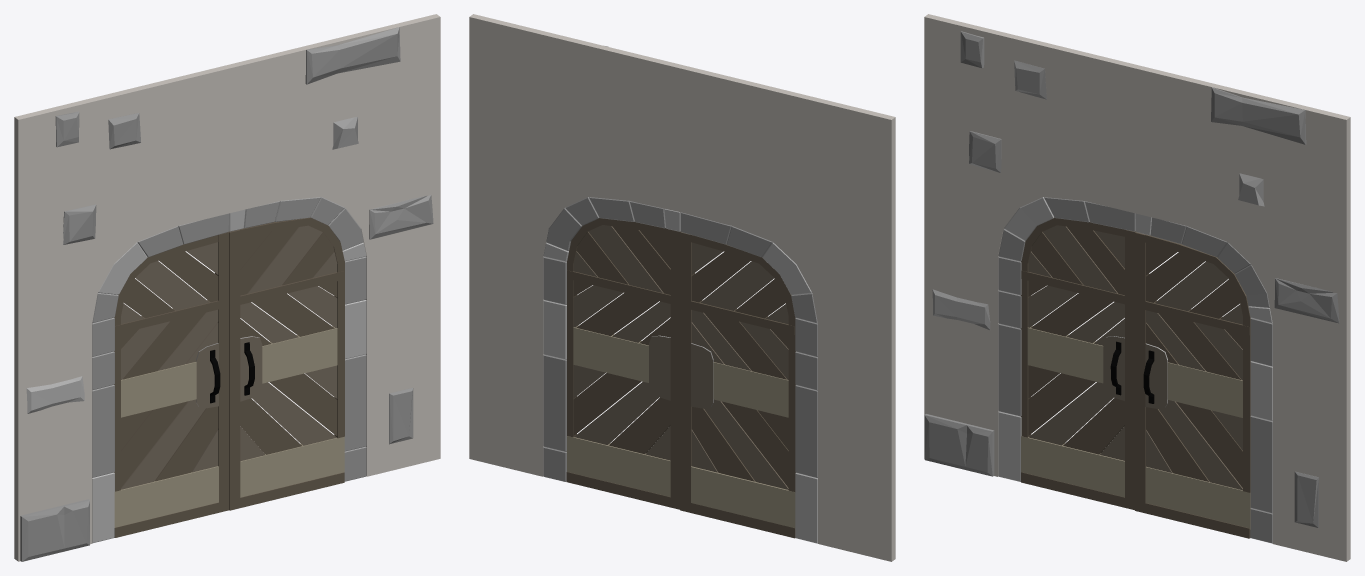
Rendered from _DOOR_02_1.fbx.
The picture shows the model from 3 angles, left to right: view 1: azimuth 30°, elevation 25°; view 2: azimuth 150°, elevation 25°; view 3: azimuth 330°, elevation 25°; orthographic projection.
Parts seen in each view (by area): view 1: DOOR_02_1; view 2: DOOR_02_1; view 3: DOOR_02_1.
Boxes of the visible parts, bbox=[...] form: DOOR_02_1: bbox=[14, 14, 440, 561]; DOOR_02_1: bbox=[469, 14, 895, 561]; DOOR_02_1: bbox=[924, 14, 1350, 561].
Bounding box in the file's own units: 300 × 300 × 12.81.
